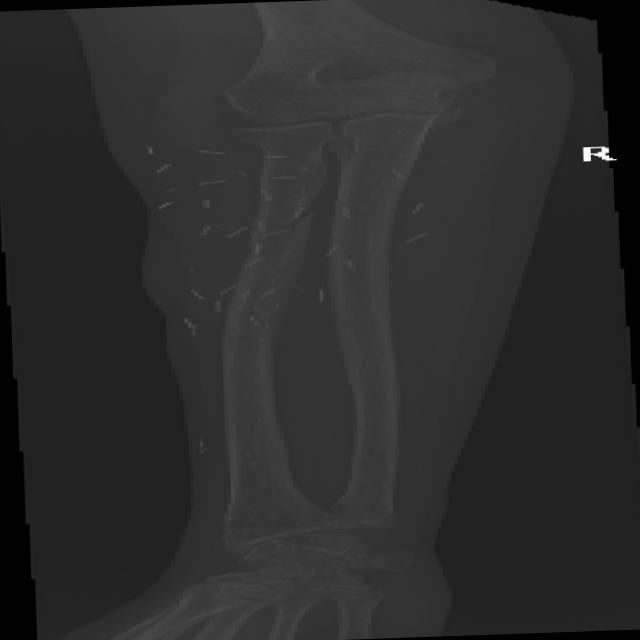forearm fracture: (258, 198, 369, 269)
